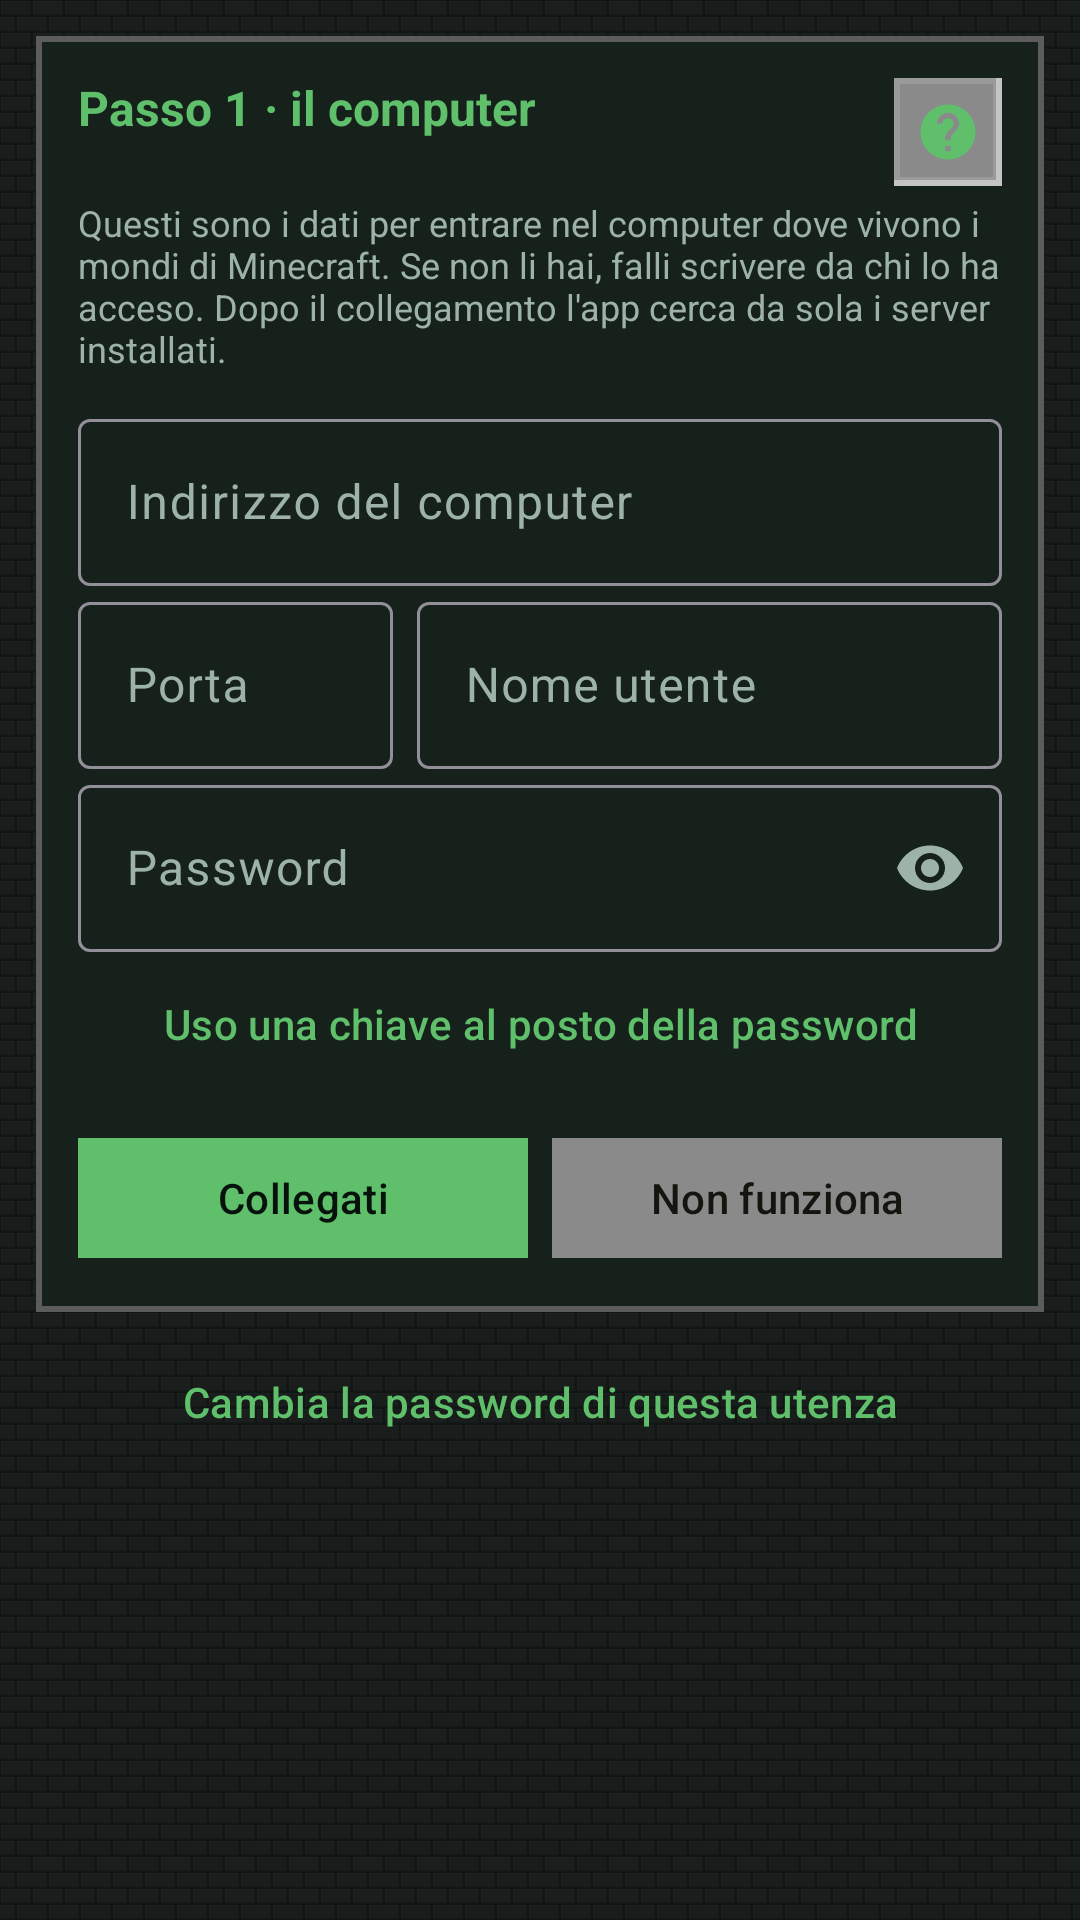

Where to tap for icons on this 1080 × 1920 app screen, as (x,y):
Aiuto: (948,132)
